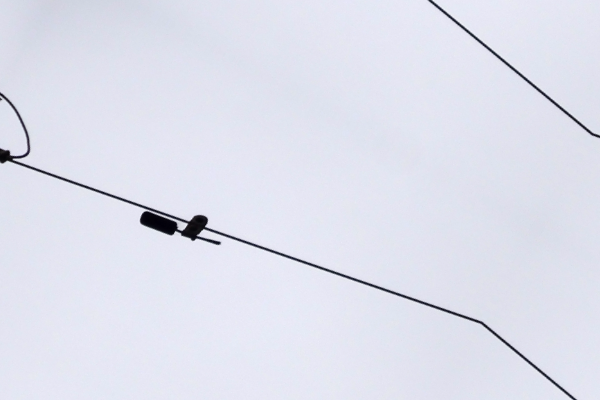damper_defect: (136, 208, 225, 248)
